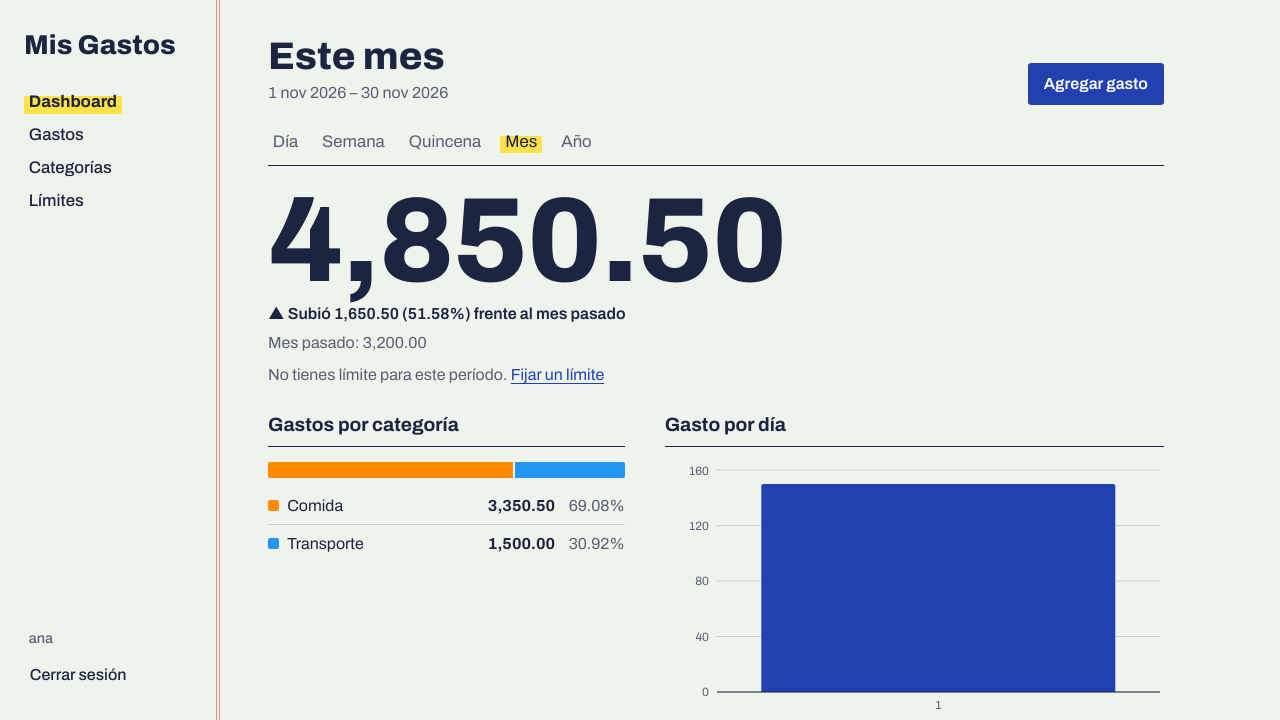
Test: DashboardPage: tabs and periods › the Día tab requests DAY and is titled "Hoy"
Check: the text "4,850.50" is shown, box [268,176,786,306]
What coordinates should you click on to do the following:
click the tab "Día"
I would click on:
 (285, 142)
Its box is [268,128,303,155].
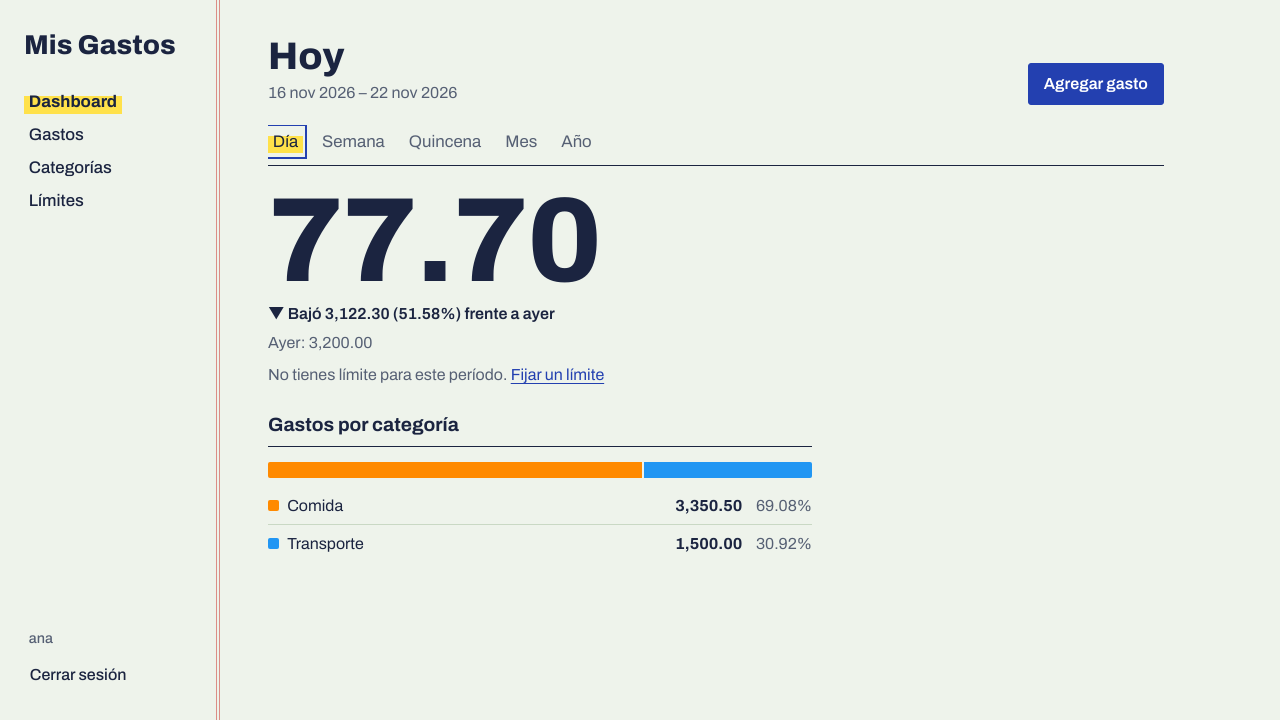
Check: the heading "Hoy" is shown, box [268,35,345,77]
Check: the text with test id "total-spent" reads "77.70", box [268,176,601,306]
Check: the text "16 nov 2026 – 22 nov 2026" is shown, box [268,81,457,105]
